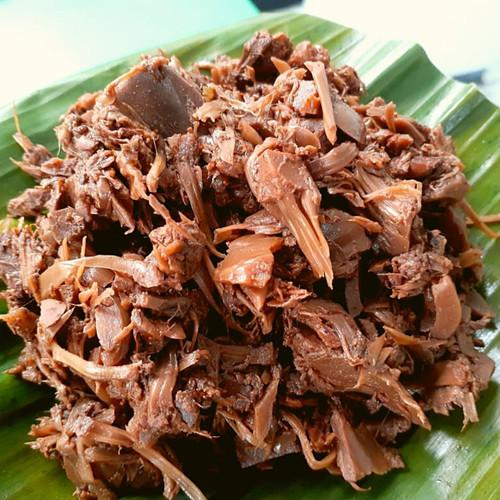gudeg: (3, 29, 497, 500)
